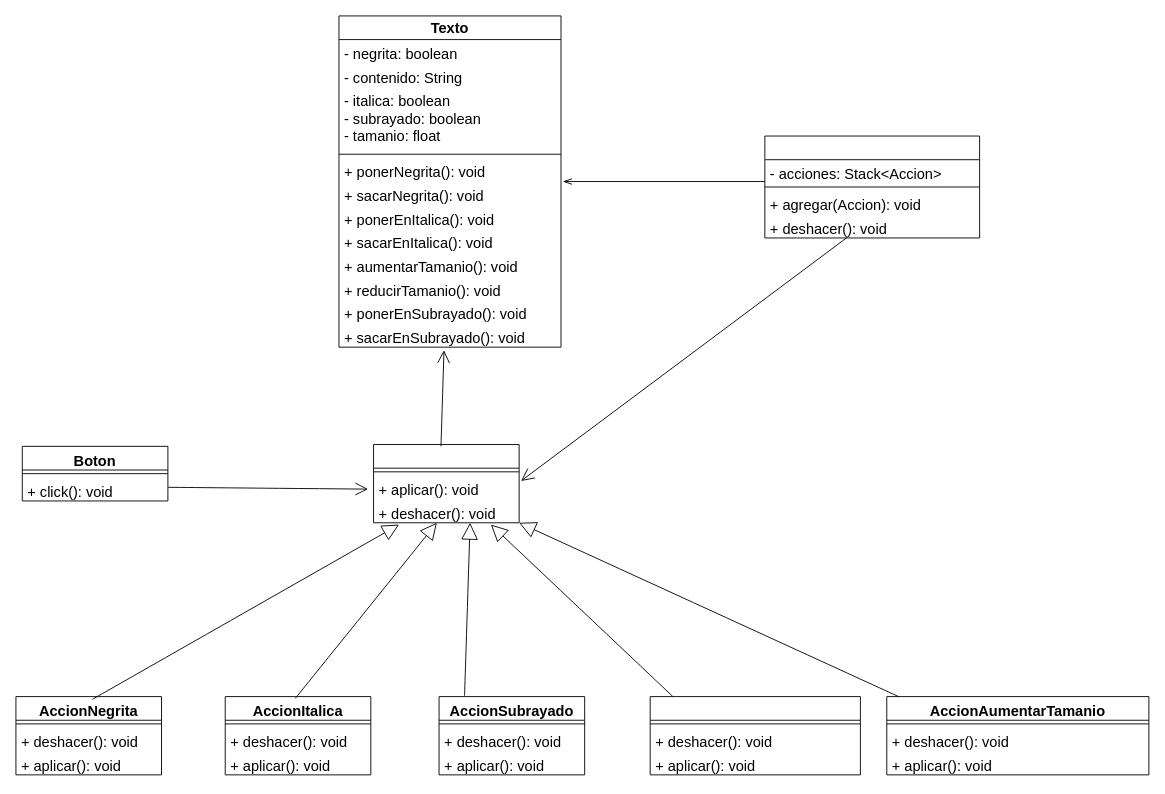
This 1165x794 diagram has some shape labels left out. Each missing label, with the box of its shape:
Accion: (373, 444, 519, 523)
AccionReducirTamanio: (649, 696, 860, 775)
Editor: (764, 135, 980, 238)
